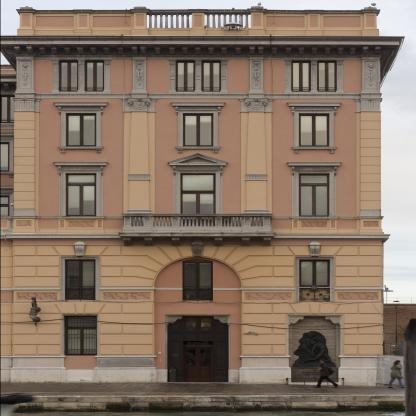Balcony: (16, 6, 381, 36), (121, 214, 273, 237)
Building Outline: (0, 6, 405, 386)
Cornice: (167, 152, 229, 166), (52, 161, 109, 166), (286, 102, 342, 106), (170, 102, 226, 106), (53, 102, 109, 106), (287, 162, 342, 166)
Deco: (287, 314, 343, 382), (365, 61, 378, 89), (19, 61, 32, 89), (252, 61, 261, 89), (135, 61, 144, 89), (191, 238, 204, 257), (73, 239, 86, 257), (308, 239, 321, 257)
Door: (165, 314, 230, 382), (181, 191, 216, 230), (183, 341, 213, 382)
Facade: (14, 42, 382, 387)
Floor: (12, 159, 383, 239), (12, 239, 383, 311), (12, 98, 383, 159)
Floor Slab: (12, 36, 383, 42), (12, 233, 383, 239), (15, 93, 381, 99), (12, 306, 383, 311), (14, 154, 381, 159)
Ground Floor: (12, 311, 383, 387)
Molding: (13, 44, 382, 55), (13, 93, 383, 98)
Pillar: (238, 97, 275, 232), (122, 97, 157, 232), (11, 97, 42, 234), (354, 98, 384, 234)
Sill: (291, 146, 338, 154), (58, 146, 104, 154), (175, 146, 221, 154), (289, 216, 340, 219), (55, 216, 106, 219)
Top Floor: (12, 42, 383, 99)
Window: (299, 174, 330, 217), (64, 316, 97, 356), (66, 173, 96, 216), (65, 259, 96, 300), (182, 259, 213, 300), (299, 113, 329, 146), (66, 113, 96, 146), (183, 113, 213, 146), (299, 259, 330, 287), (84, 60, 104, 92), (317, 60, 337, 92), (292, 60, 312, 92), (201, 60, 221, 92), (176, 60, 196, 92), (181, 173, 216, 191), (59, 60, 78, 92), (184, 316, 212, 331)
dont: (313, 359, 339, 388)
